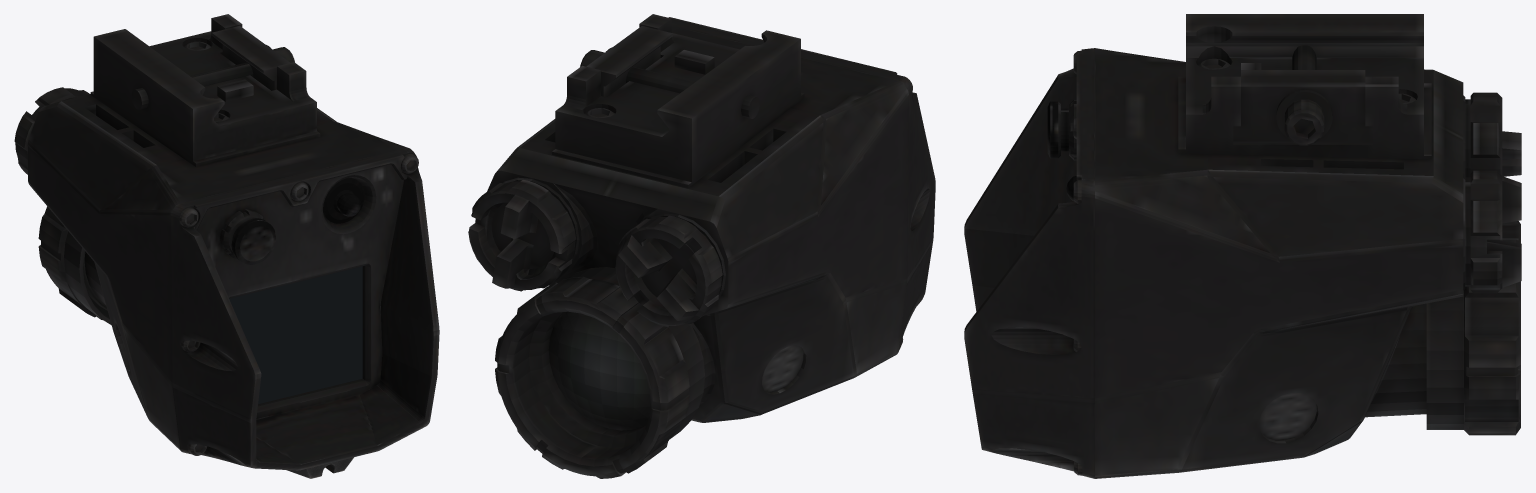
3 renders of one model, left to right at view 1: azimuth 30°, elevation 25°; view 2: azimuth 150°, elevation 25°; view 3: azimuth 270°, elevation 25°, orthographic. The views are drawn at different scales.
Parts seen in each view (by area): view 1: TW_6478641c19d732620e045e17_mode3_PZ_Import; view 2: TW_6478641c19d732620e045e17_mode3_PZ_Import; view 3: TW_6478641c19d732620e045e17_mode3_PZ_Import.
Part boxes in pixels (x1=…): TW_6478641c19d732620e045e17_mode3_PZ_Import: x1=14, y1=14, x2=439, y2=478; TW_6478641c19d732620e045e17_mode3_PZ_Import: x1=468, y1=14, x2=935, y2=478; TW_6478641c19d732620e045e17_mode3_PZ_Import: x1=964, y1=14, x2=1521, y2=478.
Size of the model in its own units: 0.0385 by 0.0633 by 0.0493.
1 material, 1 textured.
